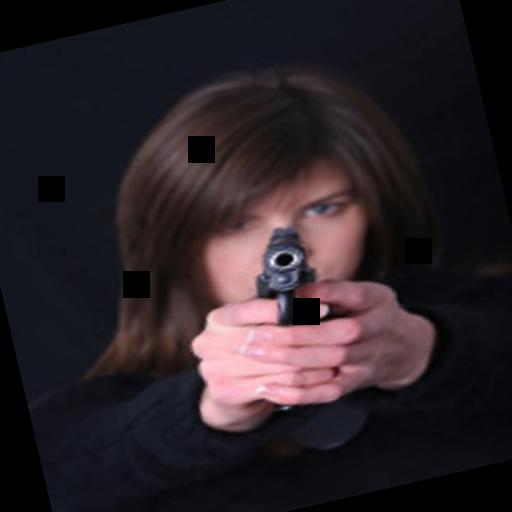Handgun: (230, 218, 326, 338)
